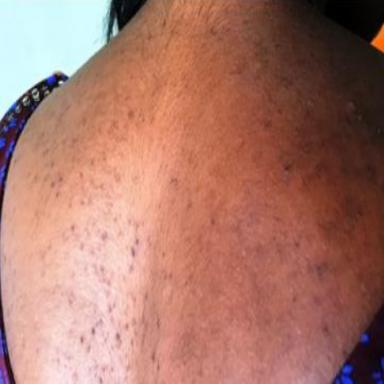Darier_s-Disease: (1, 2, 384, 383)
